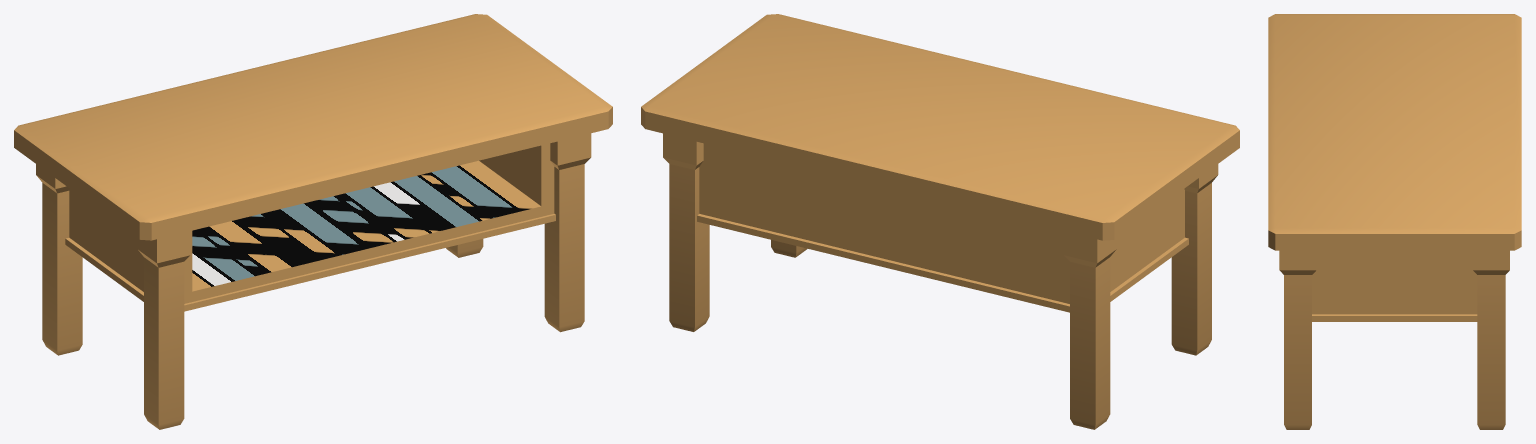
The model's file is Table_2.fbx.
3 renders of one model, left to right at view 1: azimuth 30°, elevation 25°; view 2: azimuth 150°, elevation 25°; view 3: azimuth 270°, elevation 25°, orthographic. The views are drawn at different scales.
Visible parts, largest first — view 1: Table_2; view 2: Table_2; view 3: Table_2.
Boxes of the visible parts, x1=… form: Table_2: x1=14, y1=14, x2=612, y2=429; Table_2: x1=641, y1=14, x2=1239, y2=429; Table_2: x1=1268, y1=14, x2=1521, y2=429.
Size of the model in its own units: 162 by 72.3 by 79.05.
